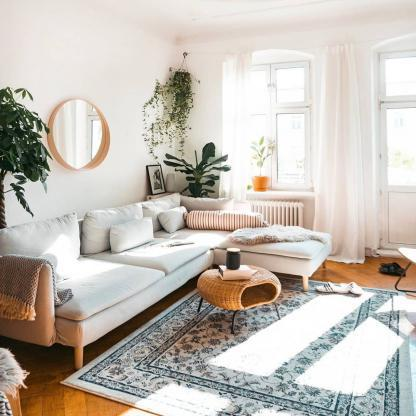bantal: (84, 207, 145, 250), (110, 222, 155, 247), (158, 206, 186, 230)
kursi: (1, 83, 48, 222), (170, 152, 219, 198)
sova: (2, 196, 336, 324)
tanaman: (141, 73, 196, 149)
